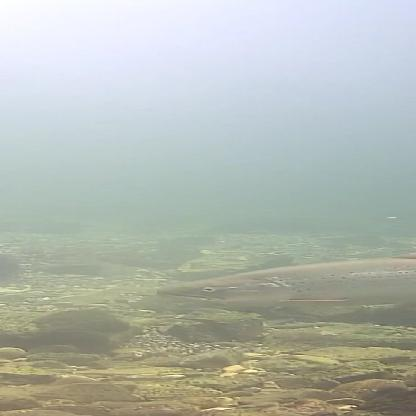salmon: (155, 251, 415, 308)
